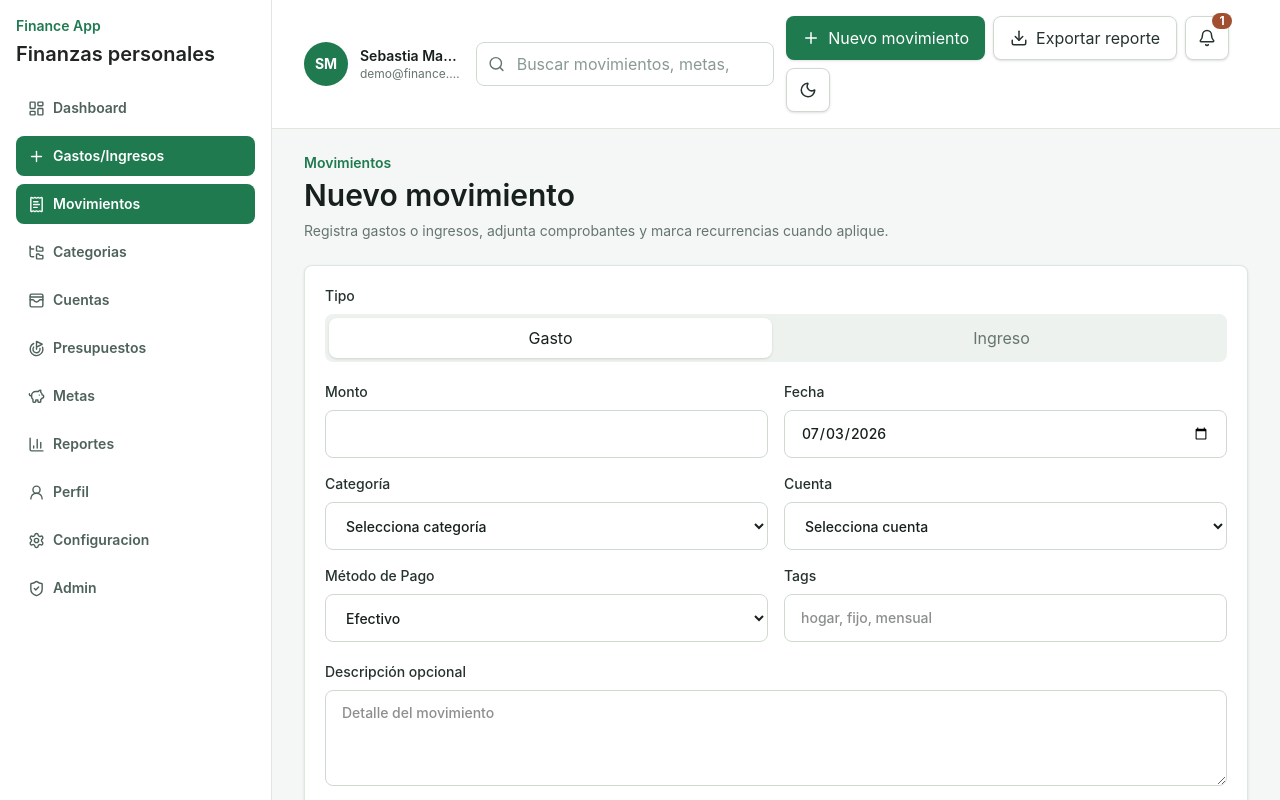
it: HU-05 Experiencia Configuracion e Inteligencia › sugiere categoria al crear un gasto por descripcion
This screenshot has width=1280, height=800.
Expected: the heading "Nuevo movimiento" is shown, top-left (304, 177), bottom-right (575, 213)
Type "Compra mercado semanal" into the text box labelled "Descripción opcional". click: x=776, y=738
box: top-left (325, 690), bottom-right (1227, 786)
(page scrolled)
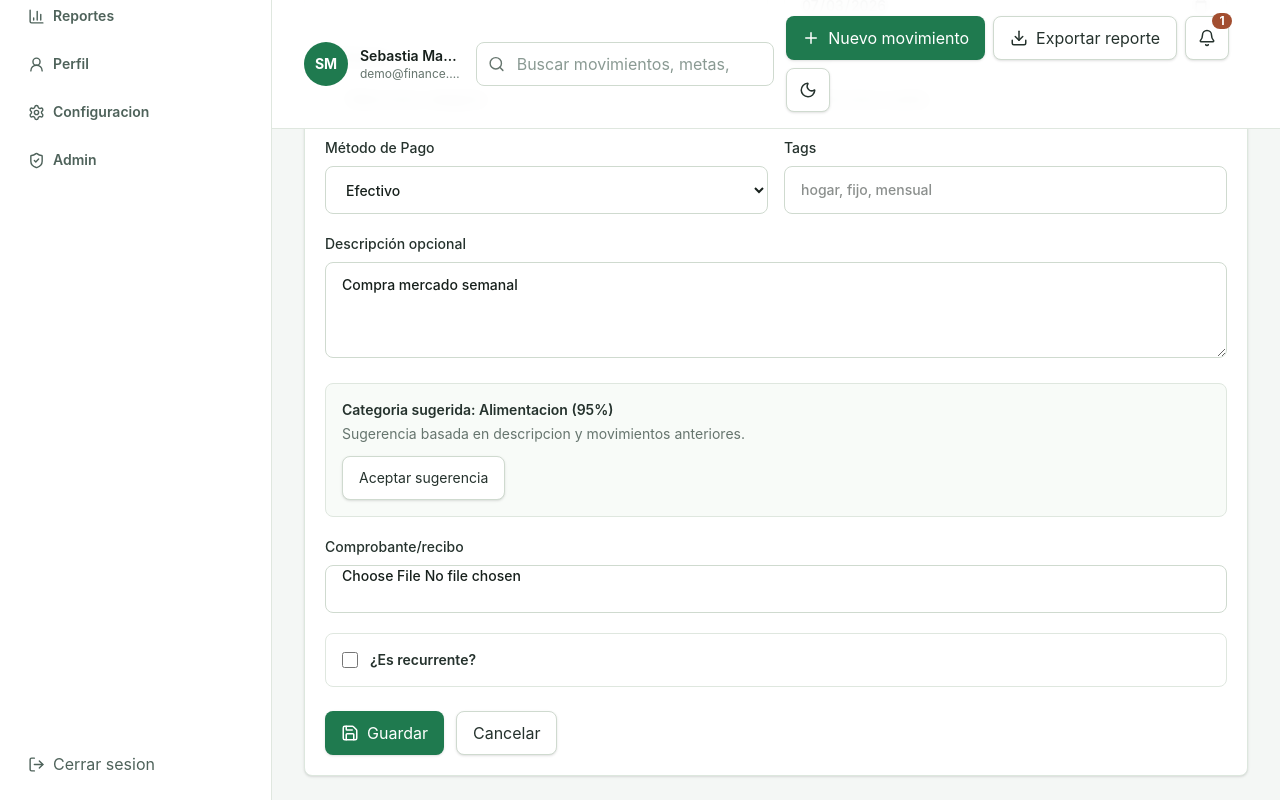
Now the text "Categoria sugerida: Alimentacion (95%)" is shown, box top-left (342, 401), bottom-right (614, 418)
